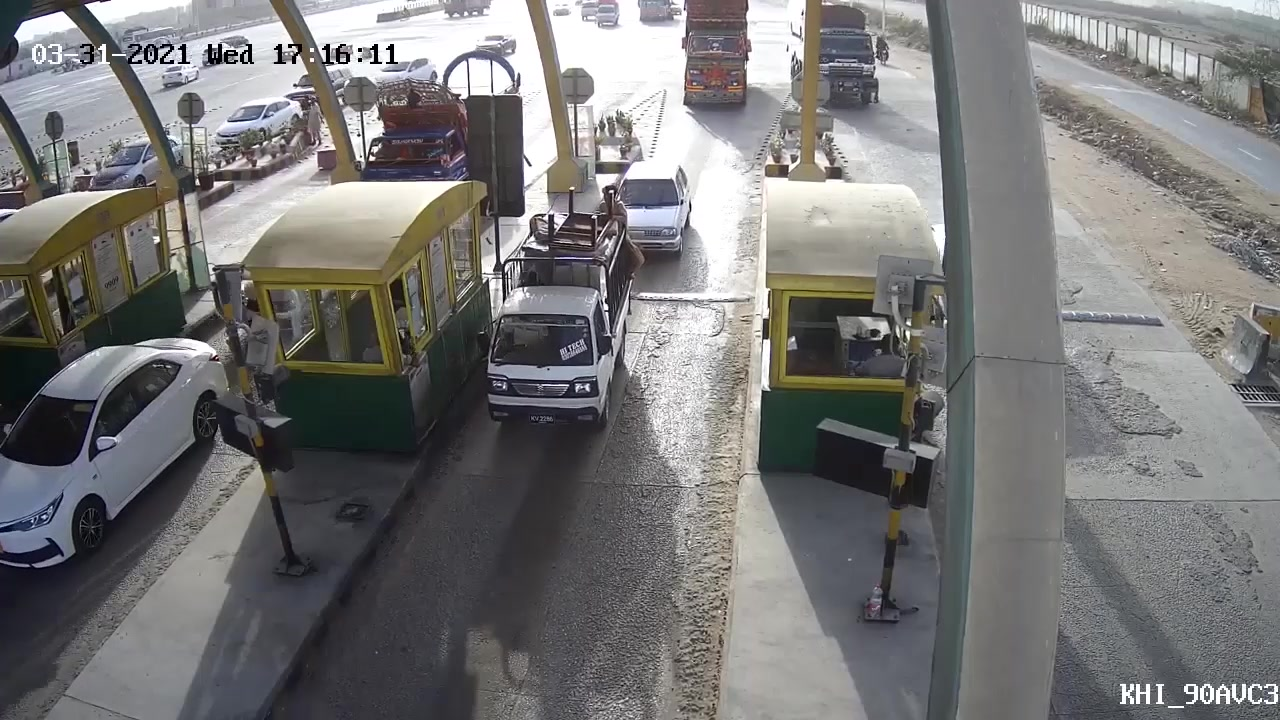F1: (482, 211, 640, 431)
